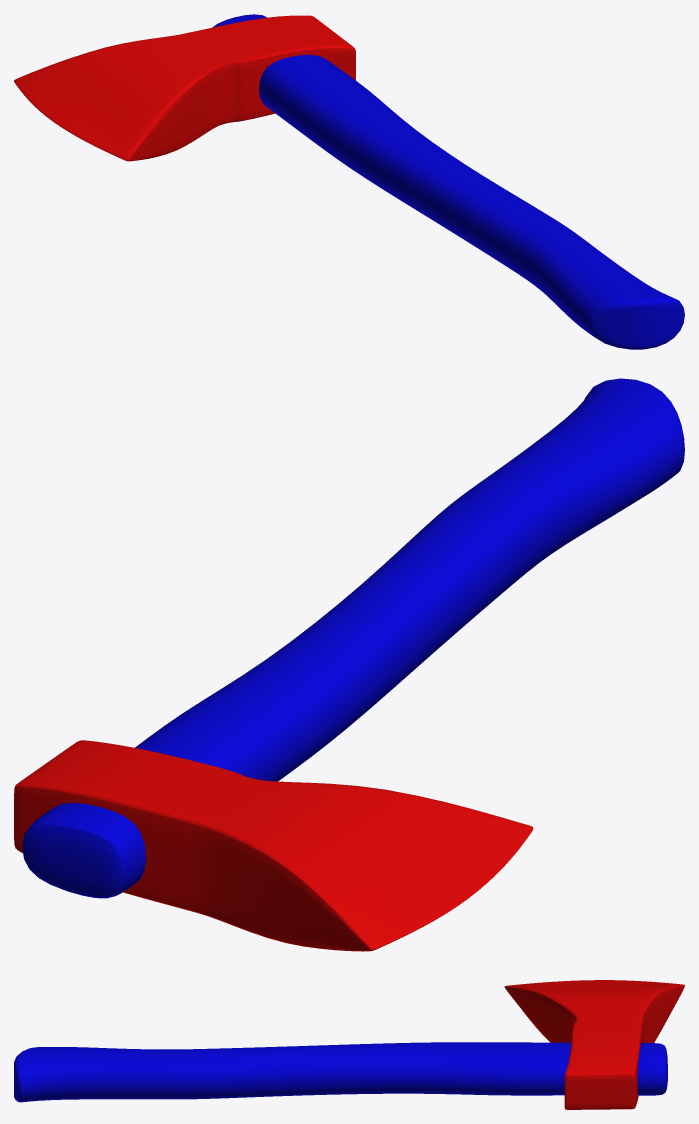
File: Axe 2.fbx
3 views of the same model, one above another, from view 1: azimuth 30°, elevation 25°; view 2: azimuth 150°, elevation 25°; view 3: azimuth 270°, elevation 25° (orthographic). The views are drawn at different scales.
Parts seen in each view (by area): view 1: Cube.001; view 2: Cube.001; view 3: Cube.001.
Boxes of the visible parts, x1,y1,x2,y2 form: Cube.001: (14, 14, 684, 349); Cube.001: (14, 378, 684, 951); Cube.001: (14, 980, 684, 1109).
Size of the model in its own units: 150 by 377 by 31.35.
